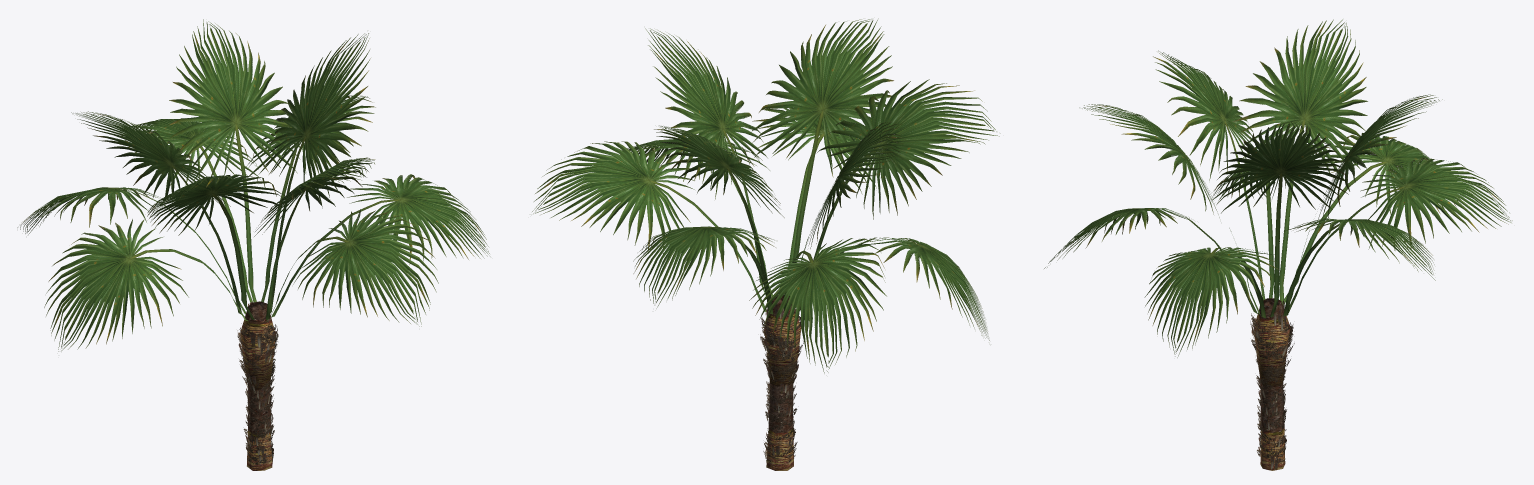
The model's file is Windmill_Palm2.fbx.
3 views of the same model, side by side, from view 1: azimuth 30°, elevation 25°; view 2: azimuth 150°, elevation 25°; view 3: azimuth 270°, elevation 25° (orthographic). The views are drawn at different scales.
Parts seen in each view (by area): view 1: LOD0; view 2: LOD0; view 3: LOD0.
Part boxes in pixels (left/top/right/bottom): LOD0: left=17, top=19, right=490, bottom=470; LOD0: left=532, top=18, right=1000, bottom=470; LOD0: left=1044, top=19, right=1512, bottom=470.
Size of what is drawn, in the model's own units: 14.7 by 14.35 by 15.44.
